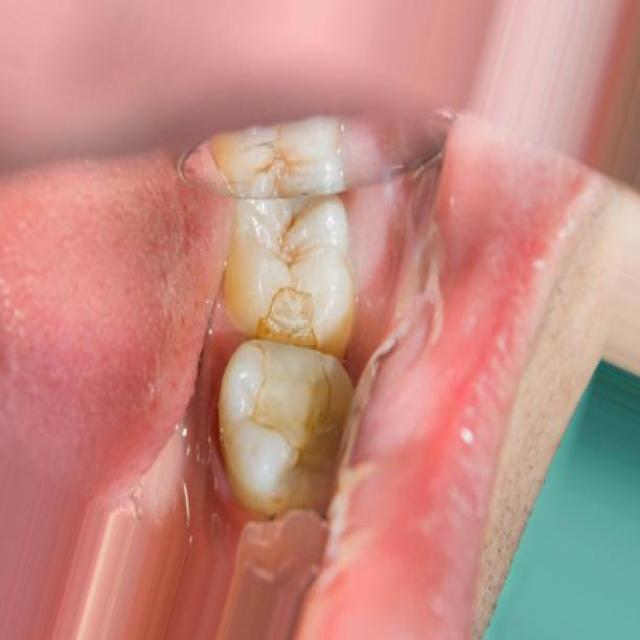caries: (229, 278, 344, 465)
